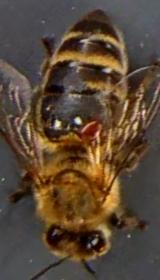varroa_mite: (72, 115, 104, 140)
